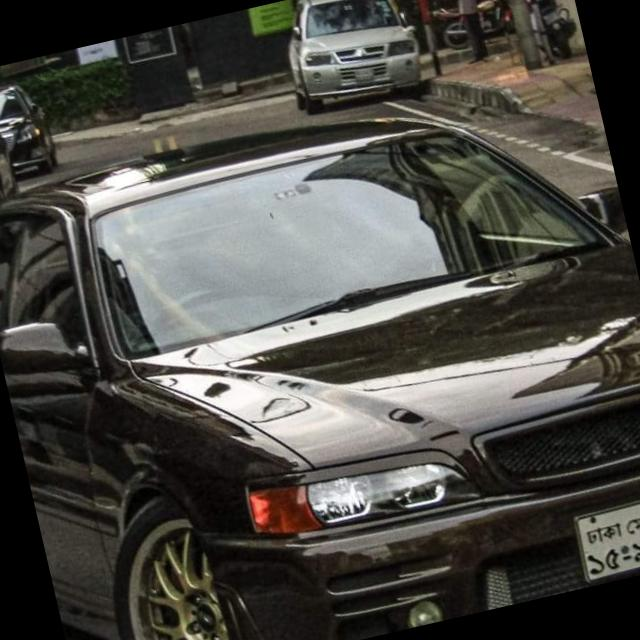Number-Plate: (577, 492, 640, 574)
